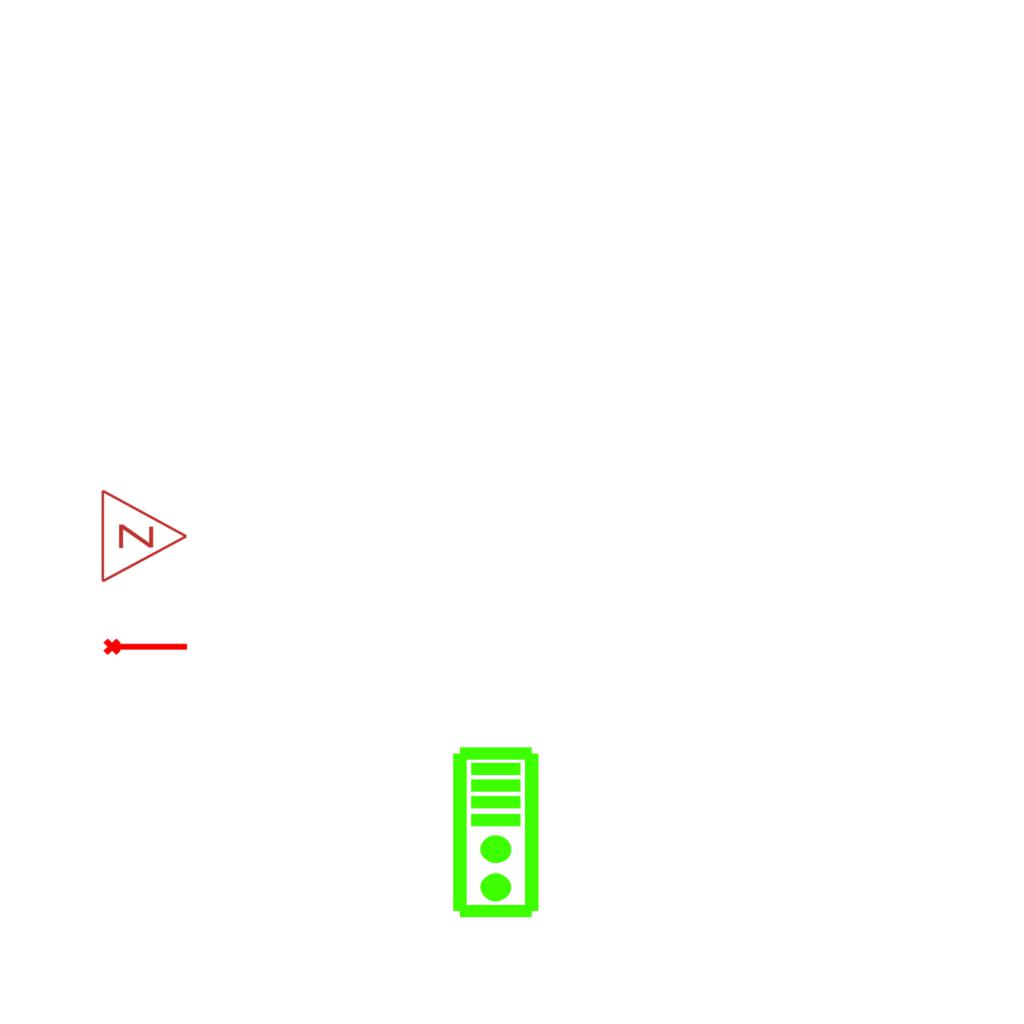ASR_Ansaugoeffnung: (102, 634, 190, 657)
Gegensprechanlage_mit_Video: (450, 745, 545, 921)
Zimmersignalleuchte: (94, 486, 194, 584)
